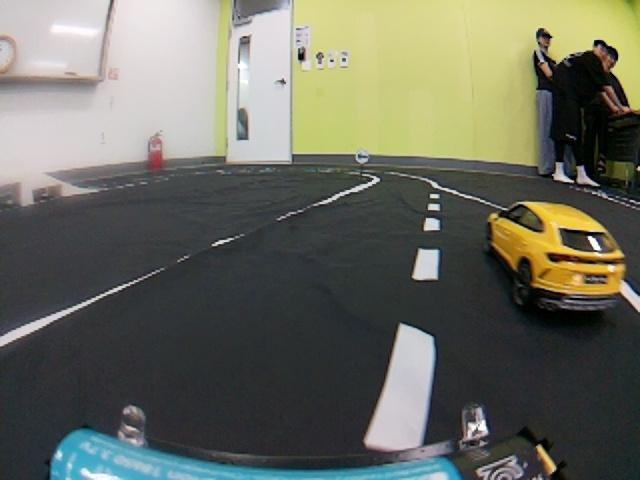car: (485, 198, 627, 313)
left: (7, 166, 640, 480)
